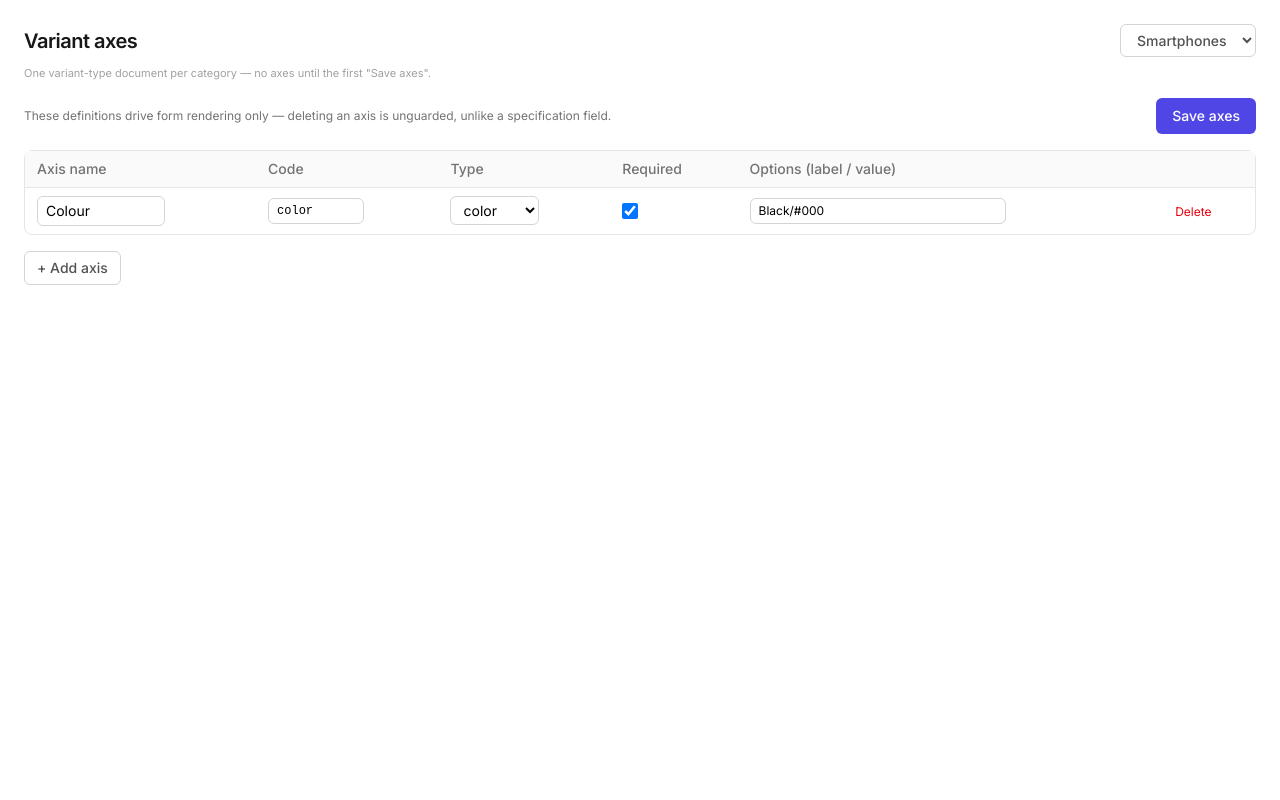
CategoryVariantsPage › deletes a persisted axis with no in-use guard, matching backend
Expected: the field showing "Colour" is shown, [37, 196, 165, 226]
Click the button "Delete" at (1193, 212), box [1175, 204, 1212, 220]
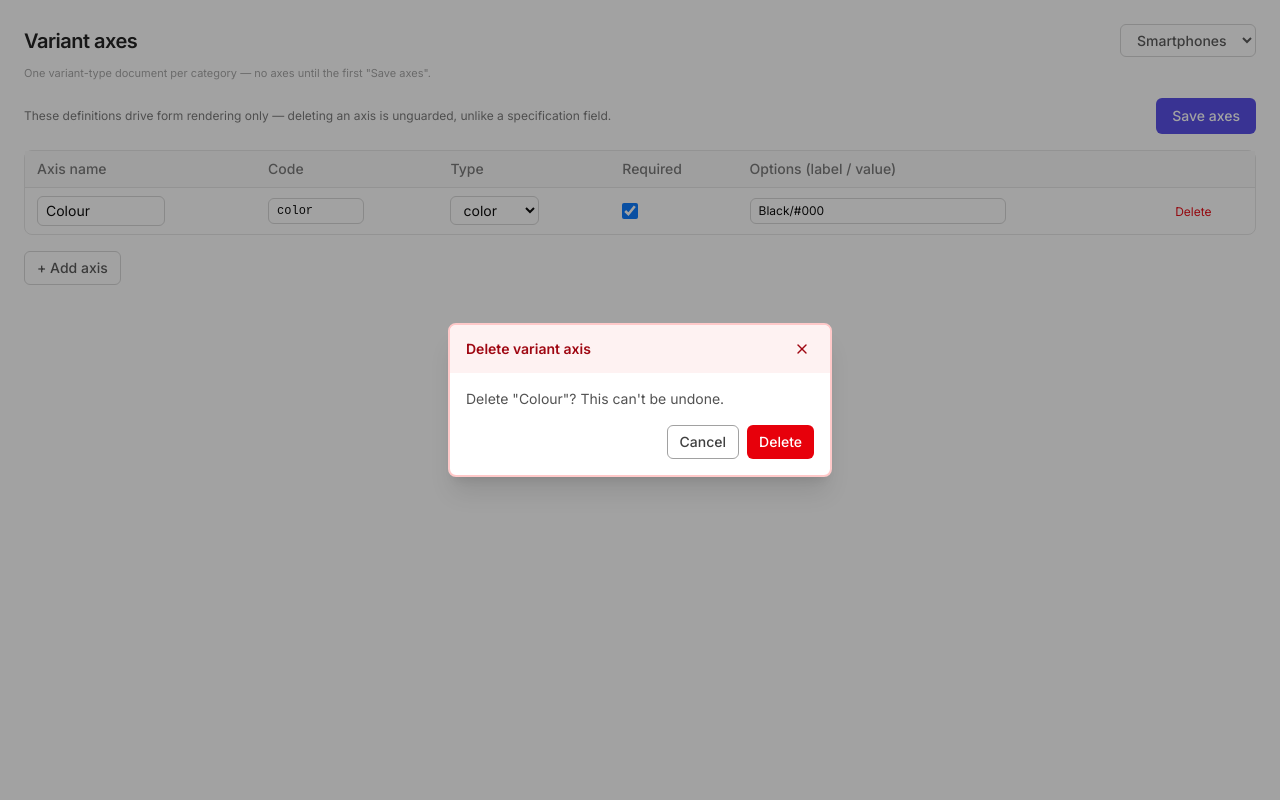
Click the button "Delete" at (781, 442), box [747, 425, 814, 459]
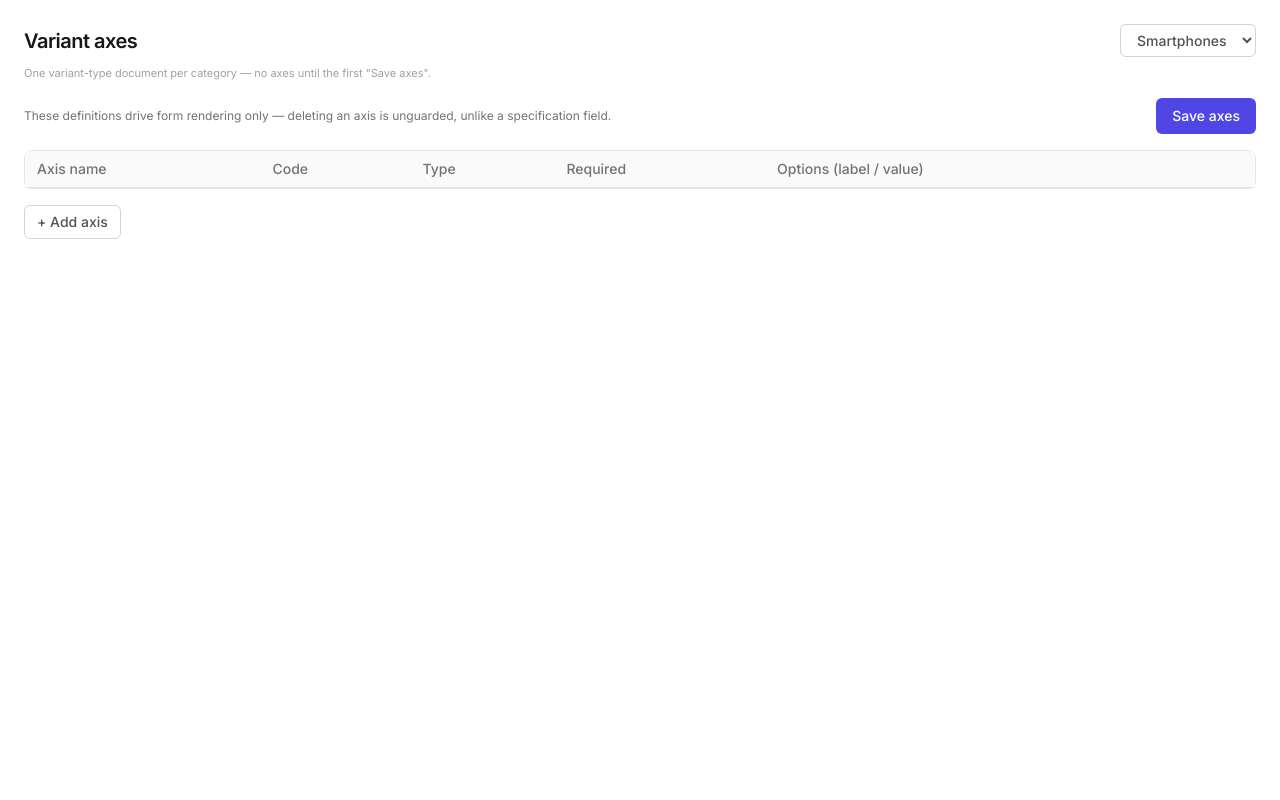
Expected: the text showing "Colour" is gone
